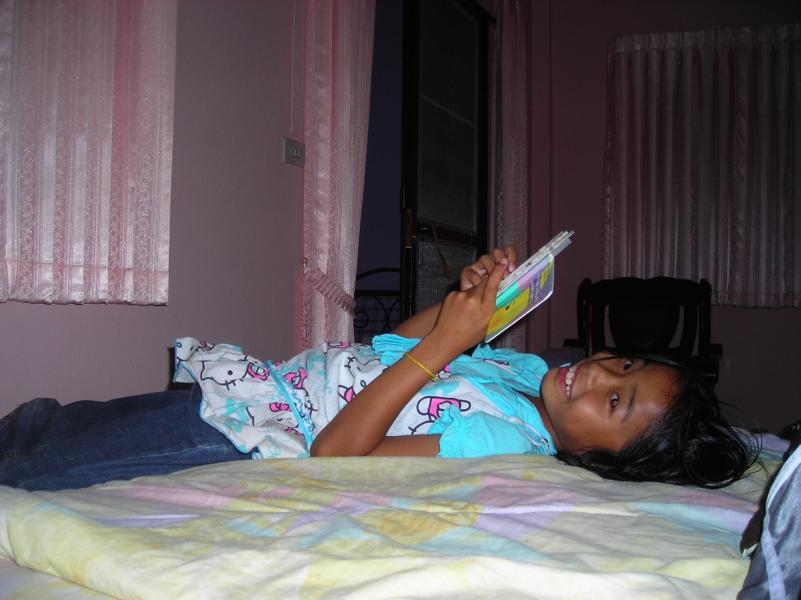person: (3, 244, 759, 490)
